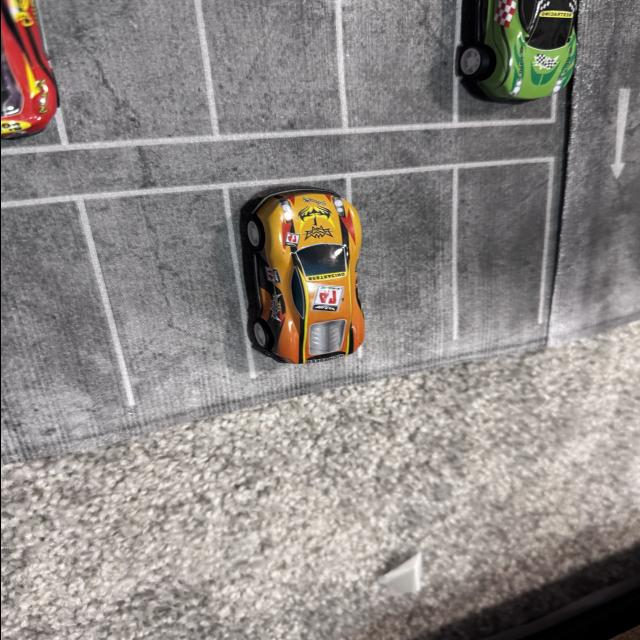Car: (190, 152, 434, 416), (447, 0, 584, 123), (1, 0, 91, 164)
